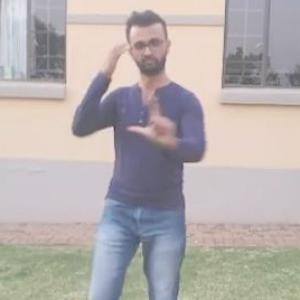land_hand: (130, 90, 180, 148)
